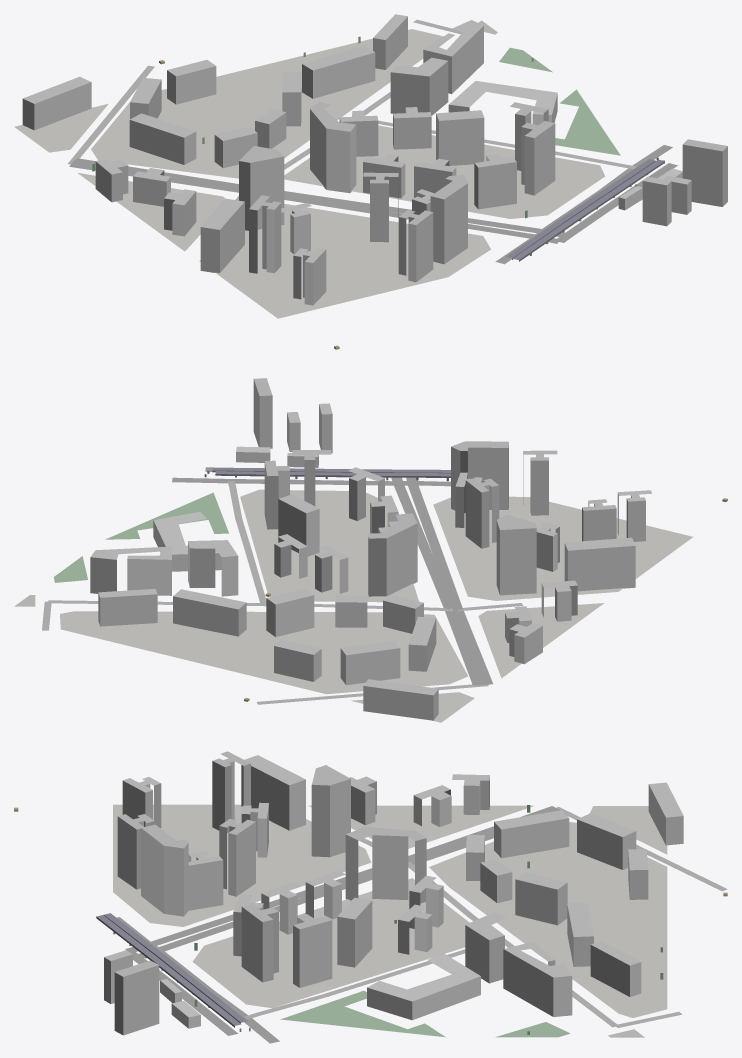
The picture shows the model from 3 angles, top to bottom: view 1: azimuth 30°, elevation 25°; view 2: azimuth 150°, elevation 25°; view 3: azimuth 270°, elevation 25°; orthographic projection. The views are drawn at different scales.
Bounding box in the file's own units: 523 × 72.67 × 644.
